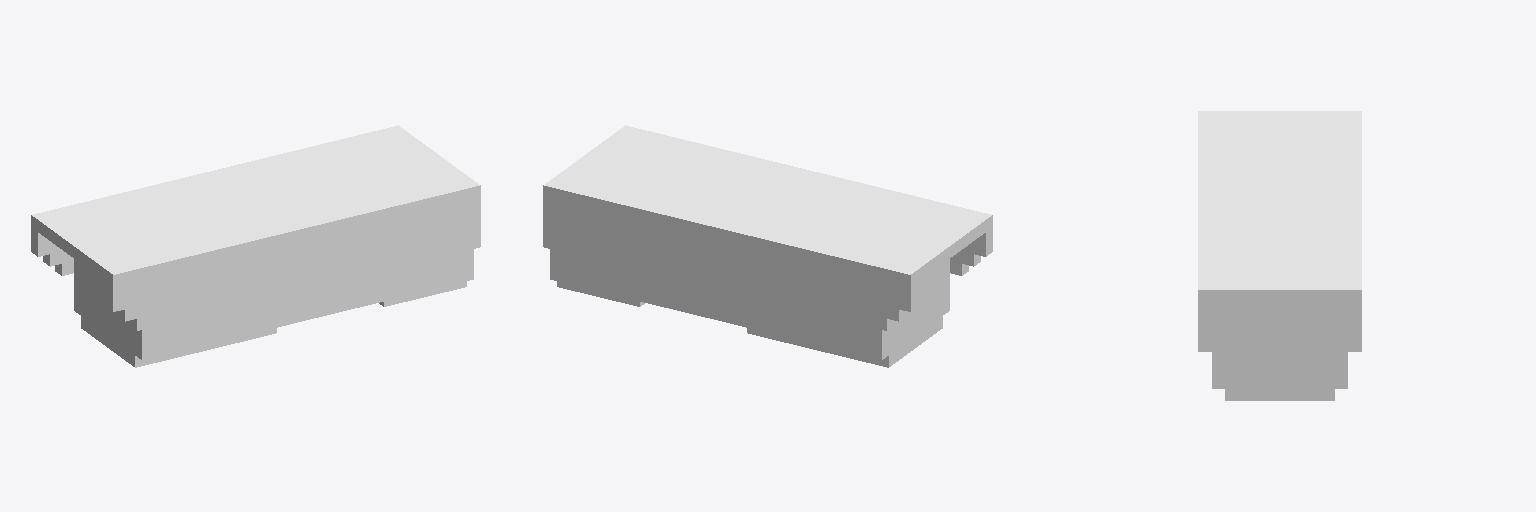
The model's file is Topcamera.obj.
3 views of the same model, side by side, from view 1: azimuth 30°, elevation 25°; view 2: azimuth 150°, elevation 25°; view 3: azimuth 270°, elevation 25° (orthographic).
Visible parts, largest first — view 1: object 1; view 2: object 1; view 3: object 1.
Boxes of the visible parts, box(x1,y1,x2,y2) form: object 1: box(31, 125, 480, 367); object 1: box(543, 125, 992, 367); object 1: box(1198, 111, 1361, 400).
Size of the model in its own units: 3.1 by 0.9 by 1.2.